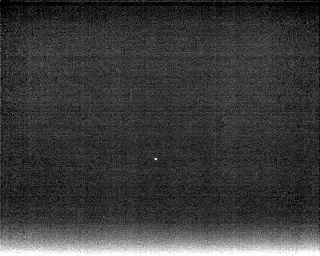BIRD: (152, 155, 160, 163)
